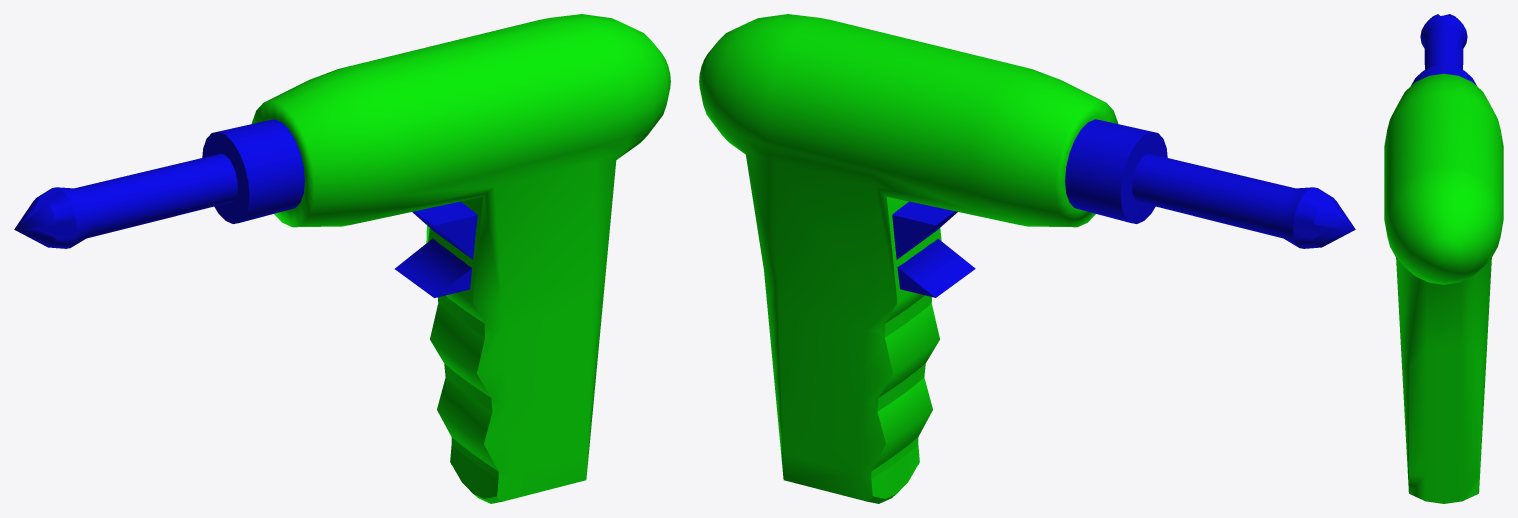
The model's file is Drill.fbx.
3 views of the same model, side by side, from view 1: azimuth 30°, elevation 25°; view 2: azimuth 150°, elevation 25°; view 3: azimuth 270°, elevation 25° (orthographic). The views are drawn at different scales.
Visible parts, largest first — view 1: pCube3; view 2: pCube3; view 3: pCube3.
Boxes of the visible parts, box(x1,y1,x2,y2) form: pCube3: box(14, 14, 670, 503); pCube3: box(699, 14, 1355, 503); pCube3: box(1384, 14, 1503, 503).
Bounding box in the file's own units: 9.38 × 6.27 × 2.
